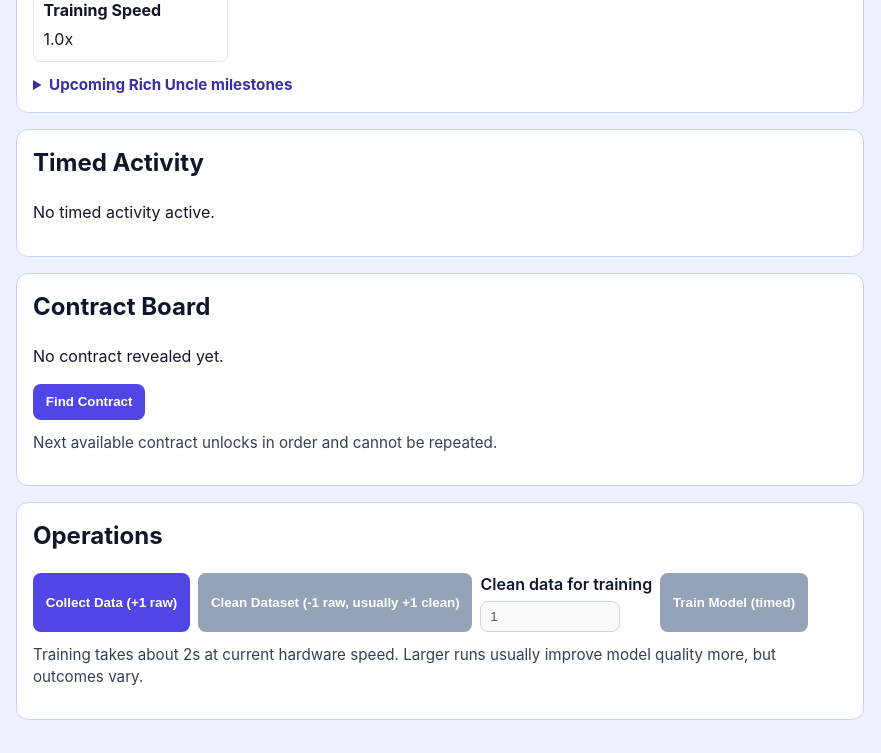
Scenario: App gameplay loop › disables Contract Board delivery until the revealed contract quality requirement is met
(page scrolled)
Click the button "Find Contract". click: (89, 402)
box: [33,384,145,420]
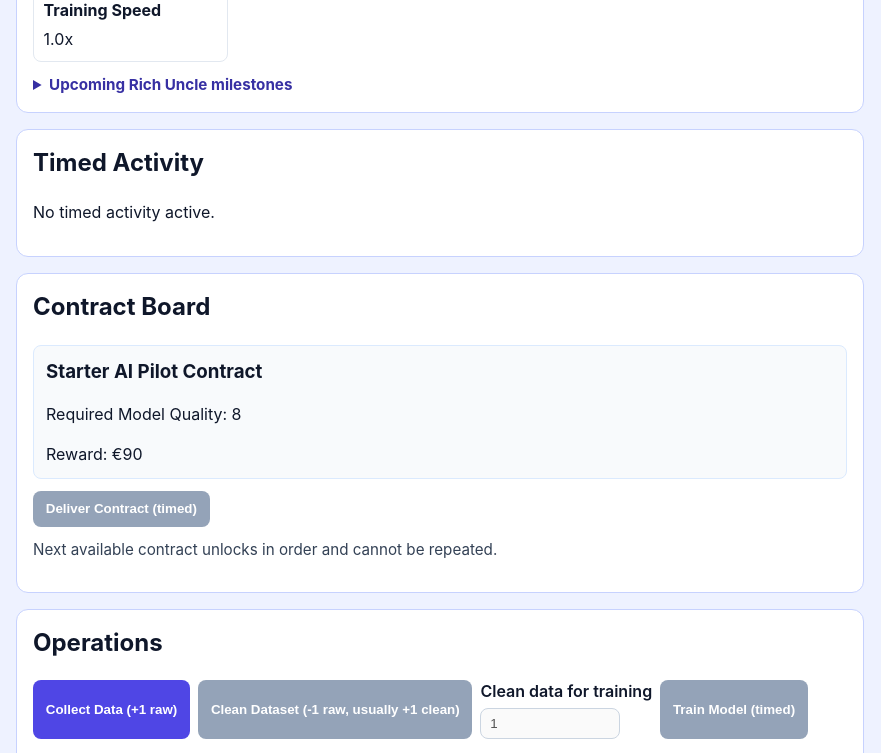
Result: the heading "Starter AI Pilot Contract" is shown at [46,360,262,382]
Result: the button "Deliver Contract (timed)" is disabled at [33,491,210,527]
